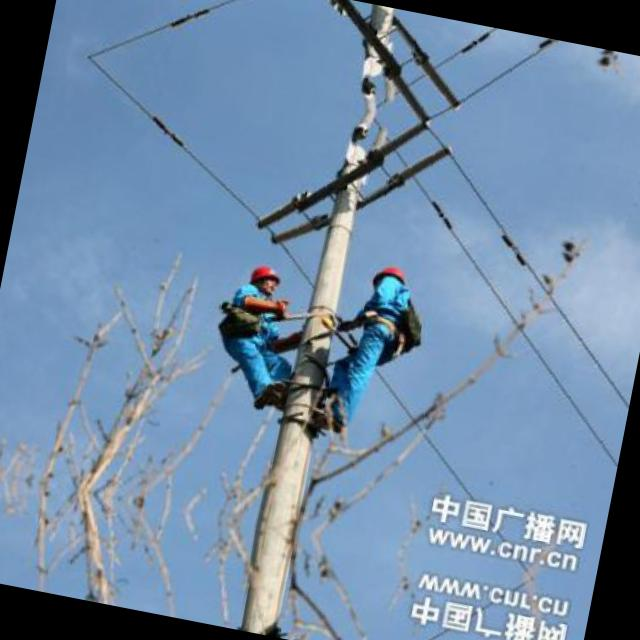helmet: (364, 258, 414, 300), (243, 262, 286, 304)
